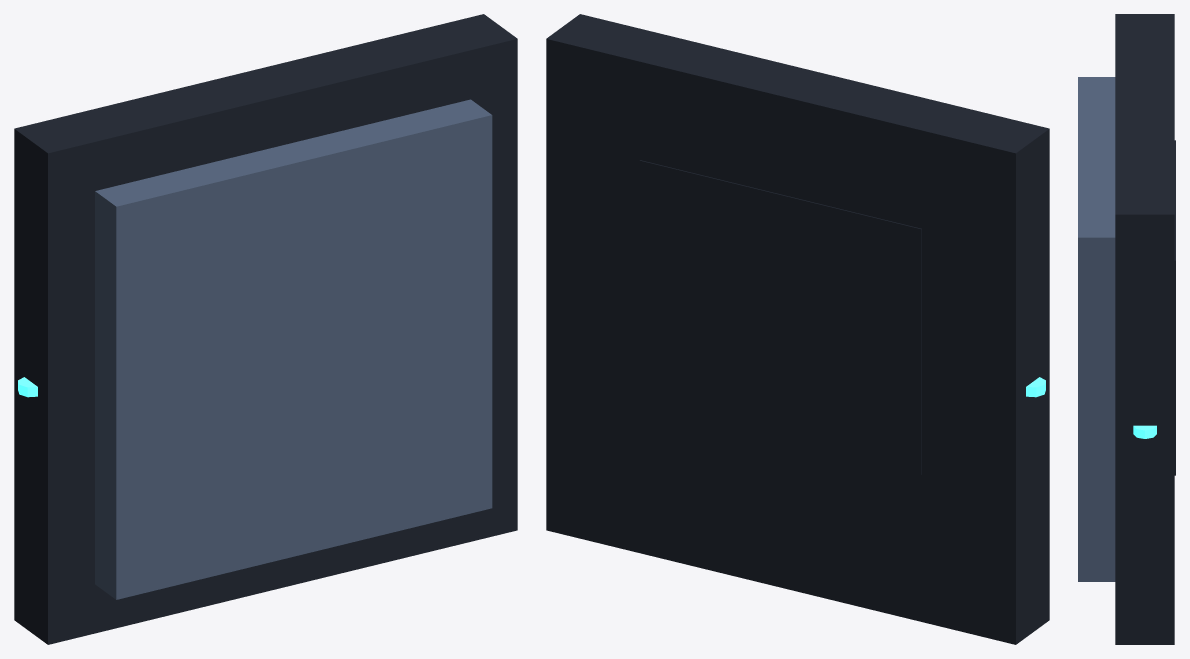
File: mod_pared_ventana.fbx
3 renders of one model, left to right at view 1: azimuth 30°, elevation 25°; view 2: azimuth 150°, elevation 25°; view 3: azimuth 270°, elevation 25°, orthographic. The views are drawn at different scales.
Parts seen in each view (by area): view 1: Pared_ventana; view 2: Pared_ventana; view 3: Pared_ventana, Pared_ventana_Conectores.
Part boxes in pixels (box(x1,y1,x2,y2)): Pared_ventana: box(14, 14, 517, 644); Pared_ventana: box(546, 14, 1049, 644); Pared_ventana: box(1078, 14, 1175, 644); Pared_ventana_Conectores: box(1133, 425, 1156, 438).
Size of the model in its own units: 1.18 by 1.12 by 0.231.
